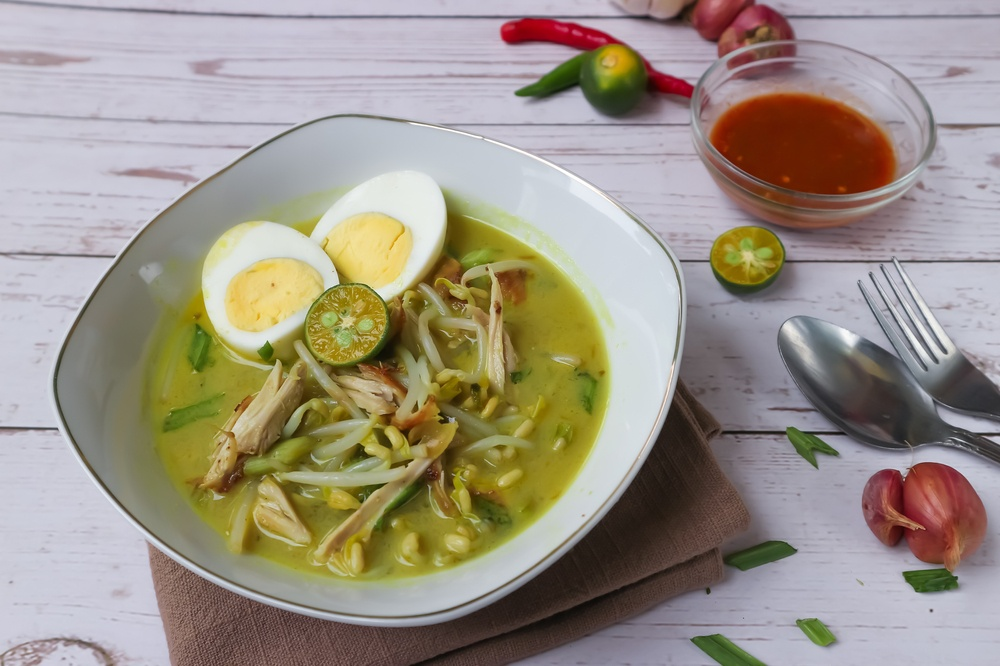soto: (45, 107, 677, 610)
